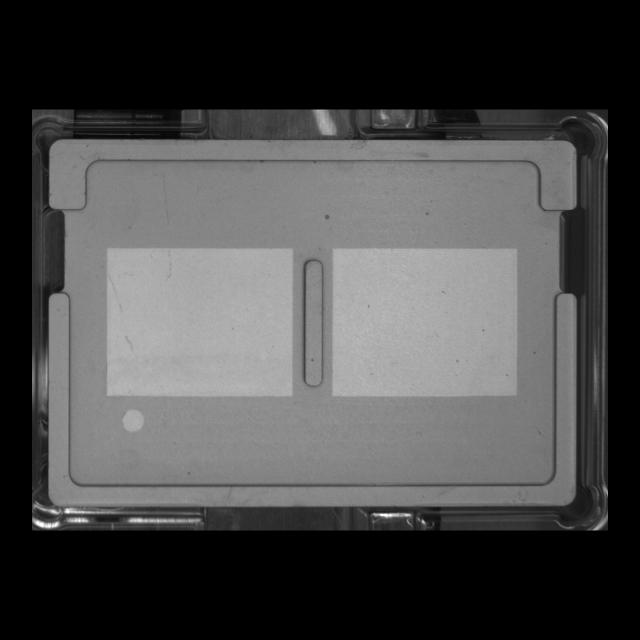door: (33, 124, 589, 226)
point: (113, 401, 152, 440)
